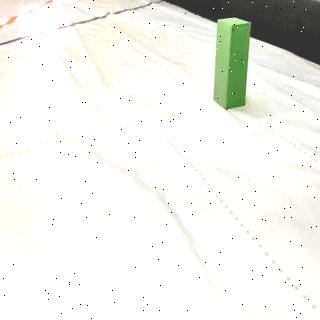greenbox: (212, 15, 252, 110)
